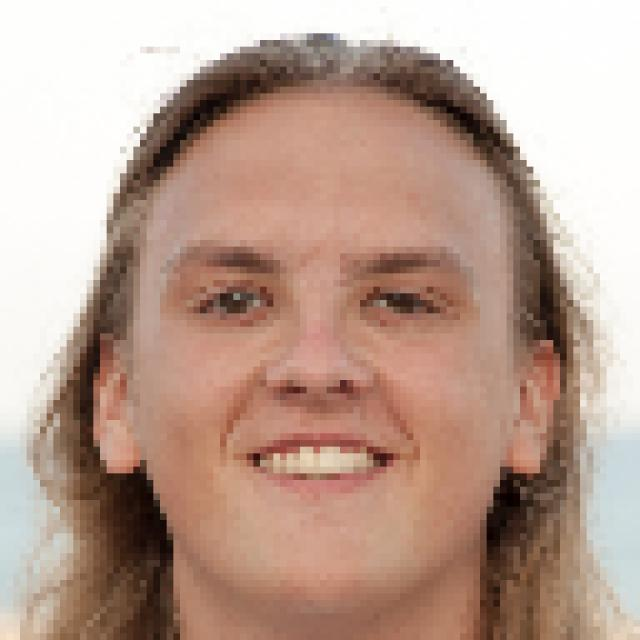happy: (90, 50, 577, 640)
